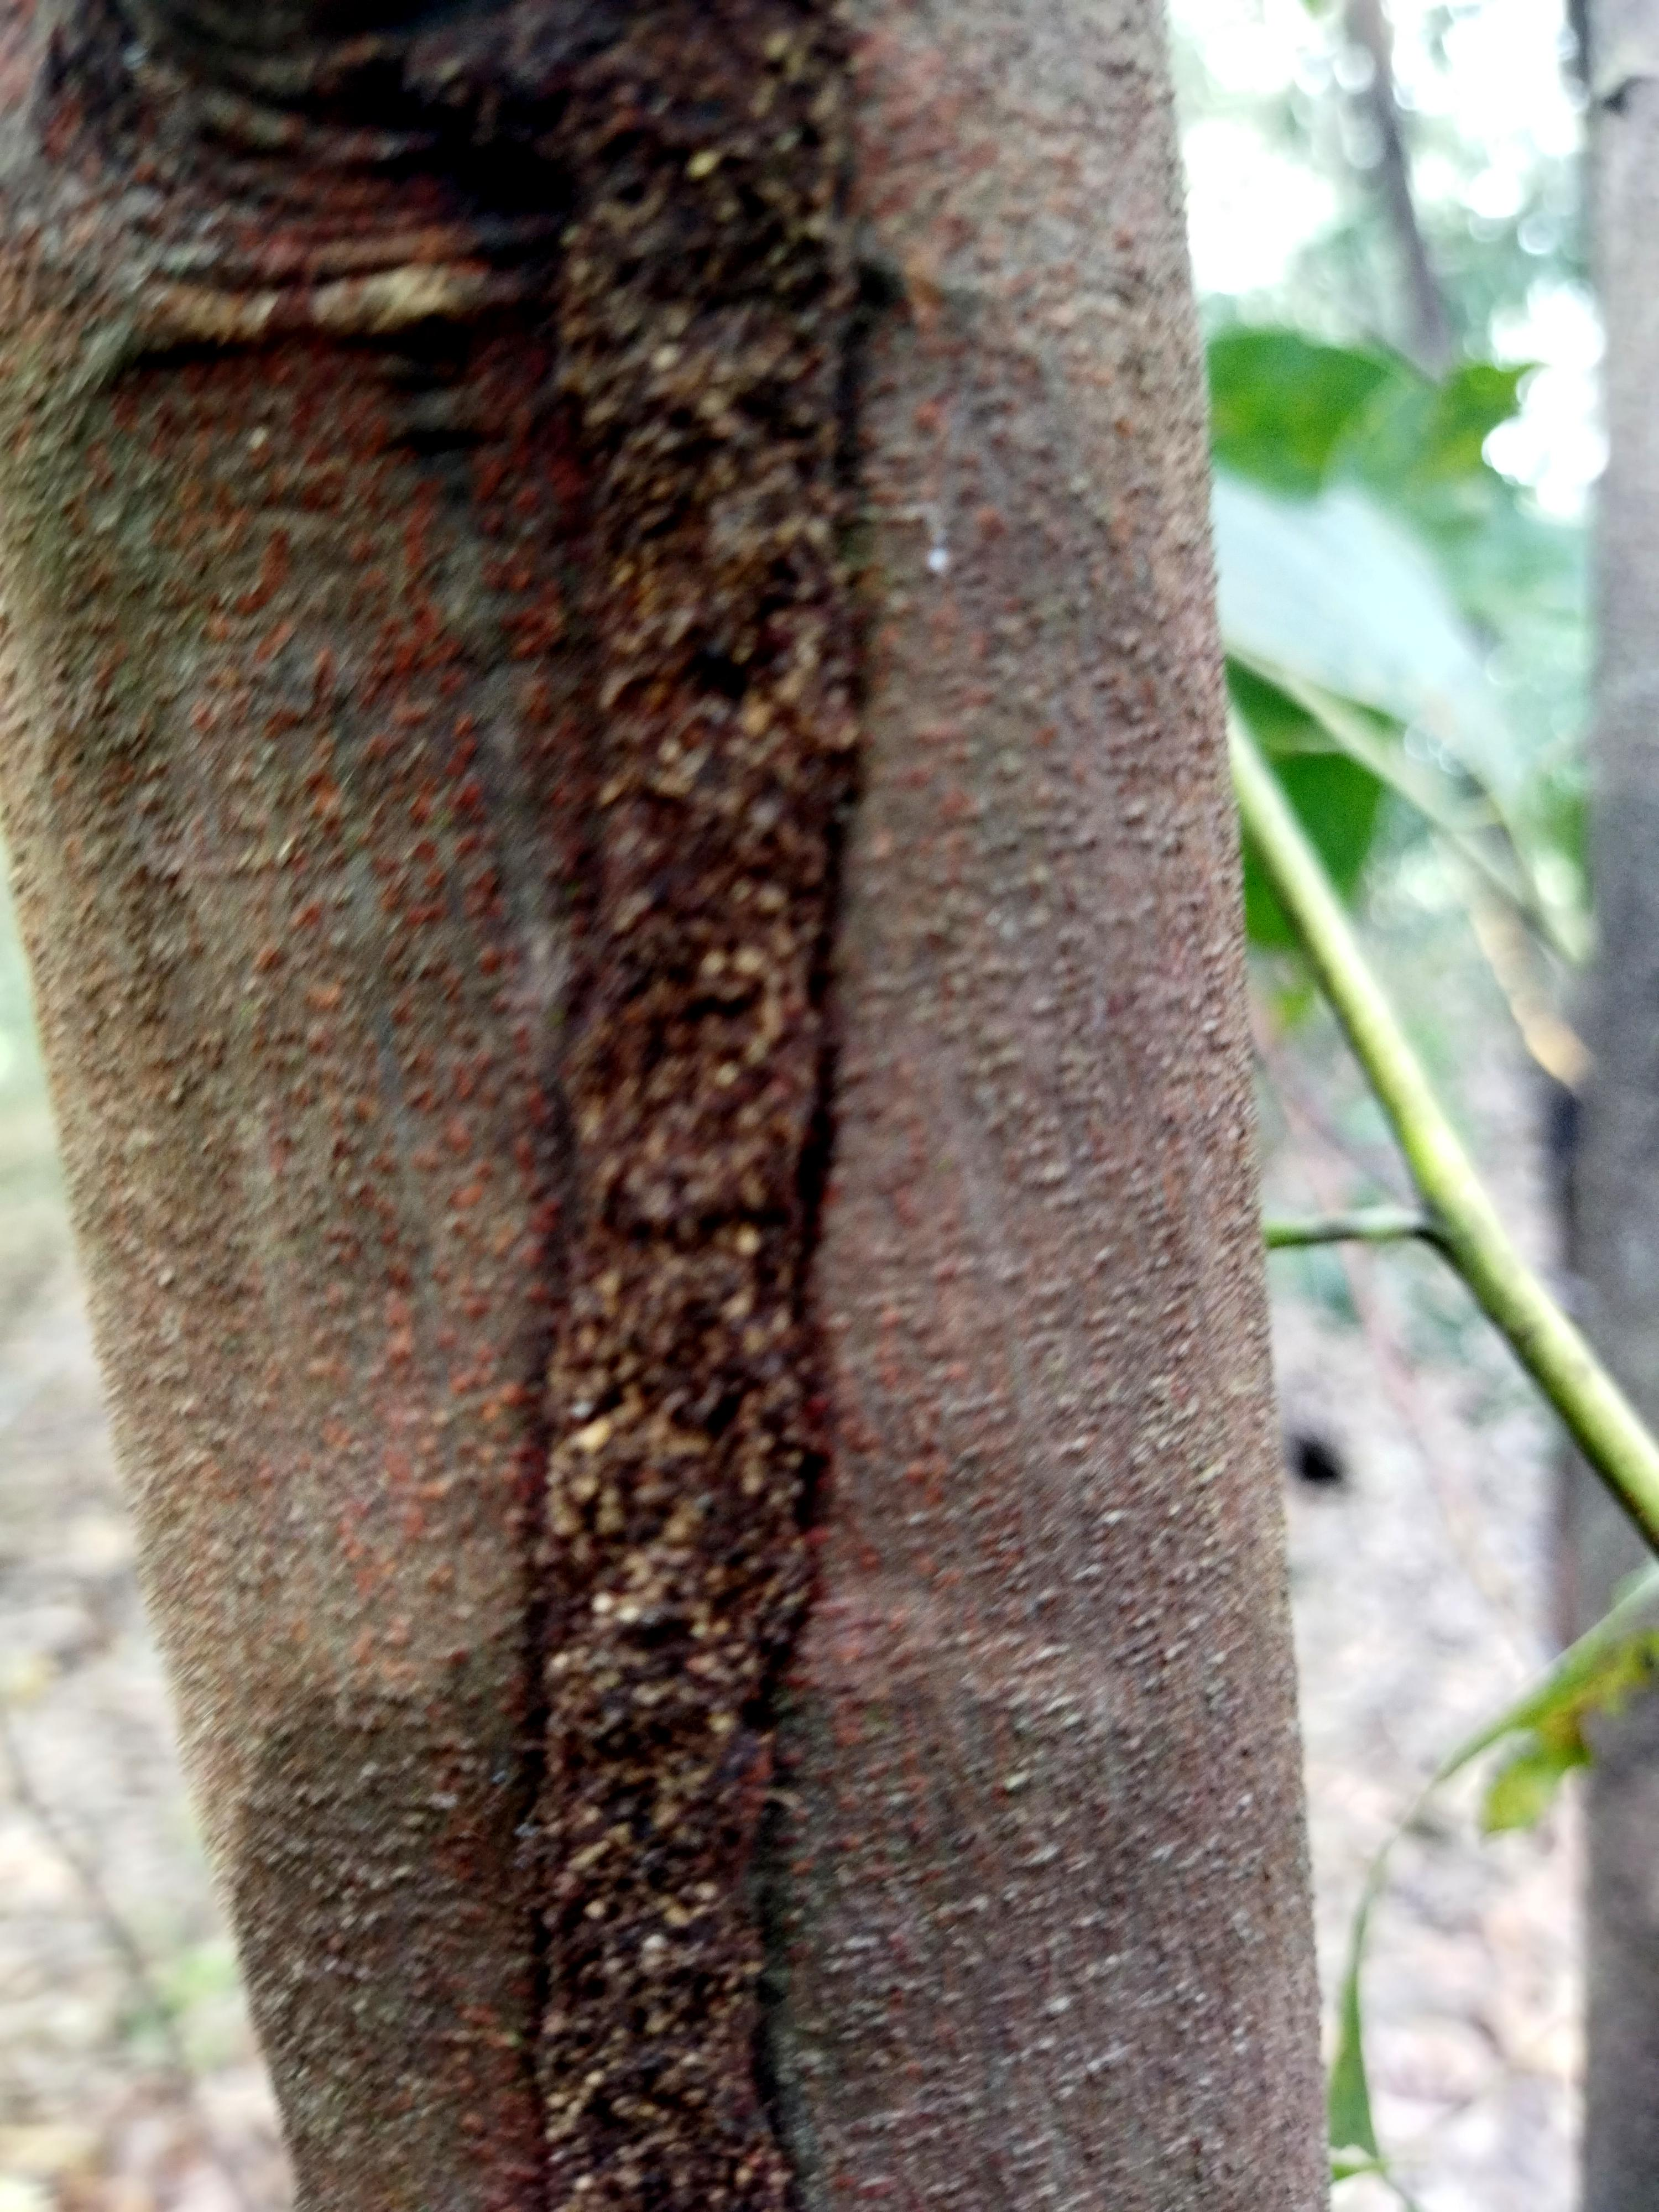Termite - Nest: (443, 0, 908, 2212)
